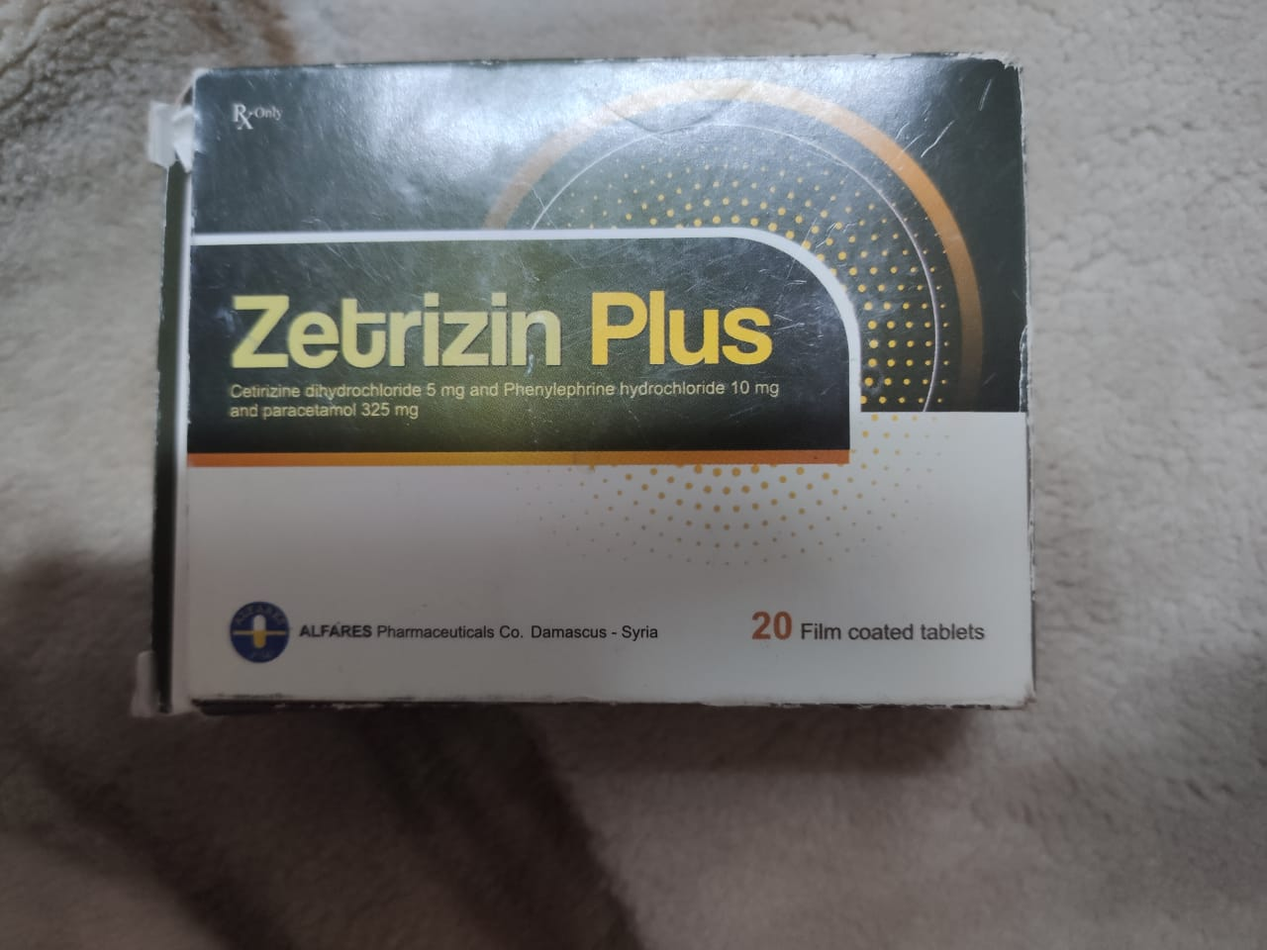Medicine: (139, 45, 1049, 735)
